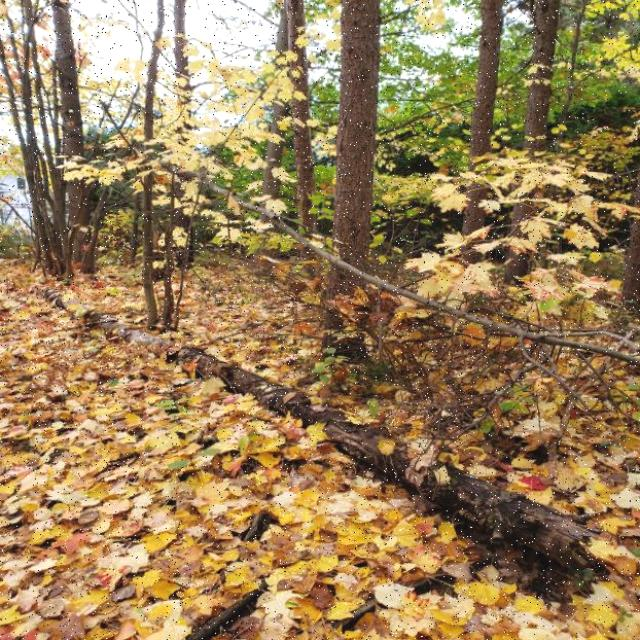fallen_object: (0, 268, 631, 594)
